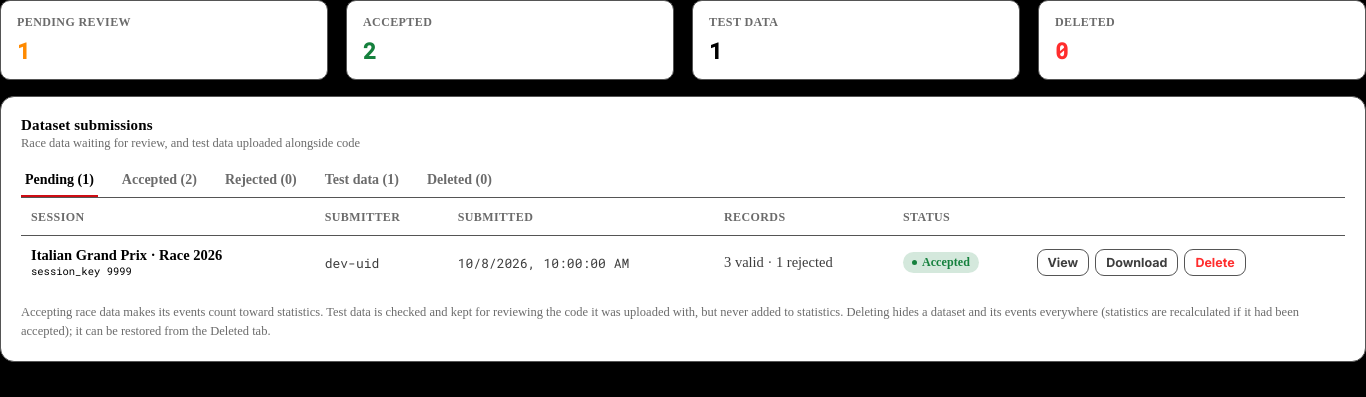
DatasetSubmissionsPanel › deleting asks first, warns about statistics for accepted data, and reports the recompute
The width and height of the screenshot is (1366, 397).
Click the button "Delete". click: point(1215, 262)
box: top-left (1184, 249), bottom-right (1246, 276)
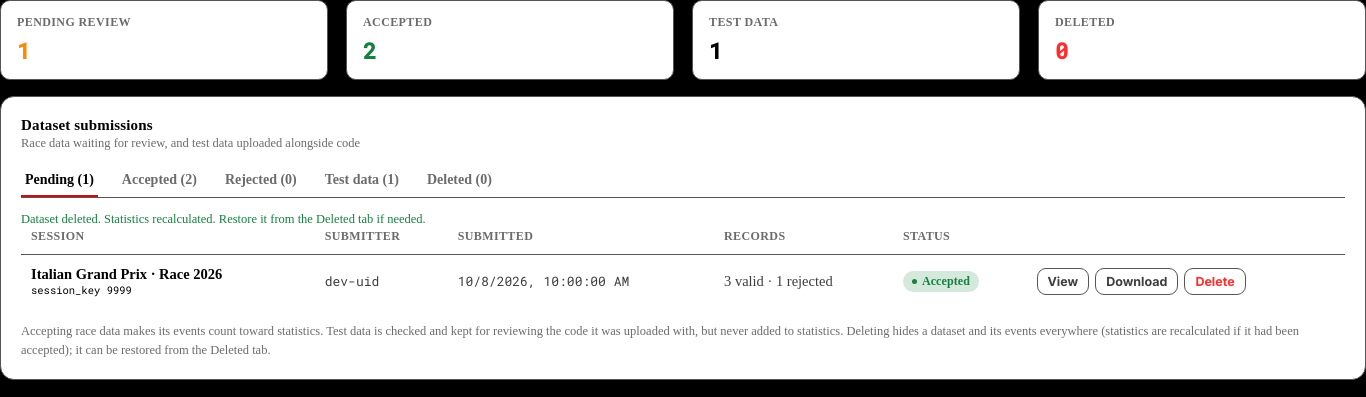
Now the message shows "Dataset deleted. Statistics recalculated.", box top-left (21, 212), bottom-right (426, 226)
